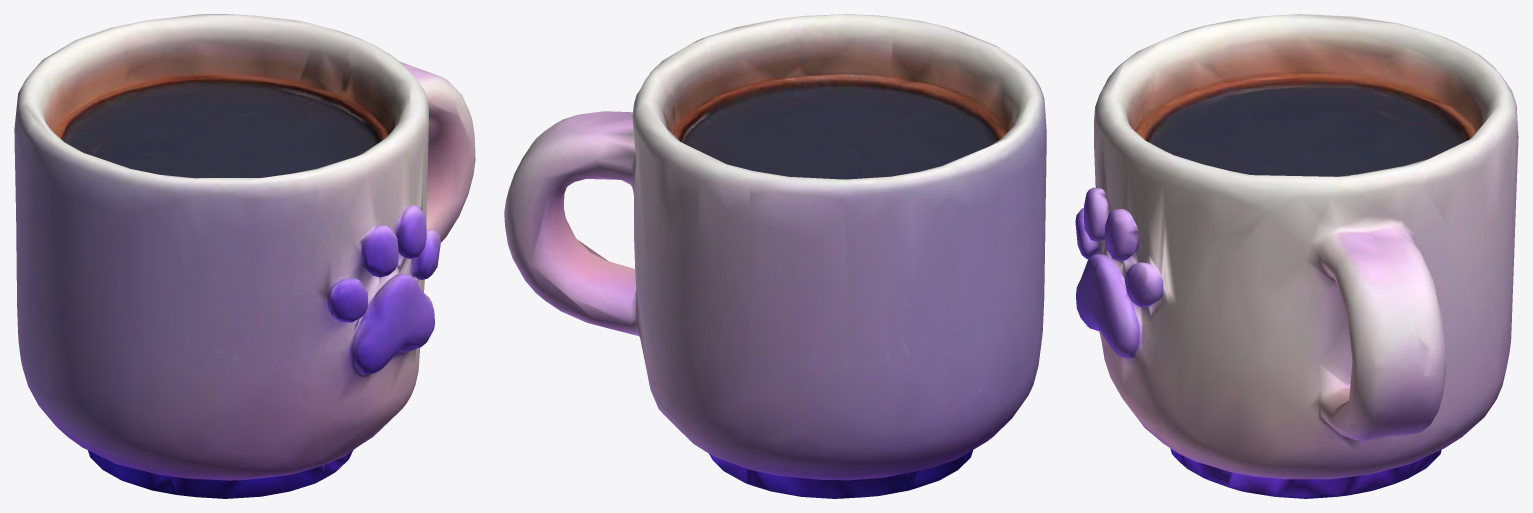
File: junior_coffee_cup.glb
3 views of the same model, side by side, from view 1: azimuth 30°, elevation 25°; view 2: azimuth 150°, elevation 25°; view 3: azimuth 270°, elevation 25° (orthographic).
Visible parts, largest first — view 1: tripo_node_ecd41a10-5d6b-489b-869b-41eb40abeccb; view 2: tripo_node_ecd41a10-5d6b-489b-869b-41eb40abeccb; view 3: tripo_node_ecd41a10-5d6b-489b-869b-41eb40abeccb.
Part boxes in pixels (x1,y1,x2,y2): tripo_node_ecd41a10-5d6b-489b-869b-41eb40abeccb: (14,14,475,498); tripo_node_ecd41a10-5d6b-489b-869b-41eb40abeccb: (504,14,1046,498); tripo_node_ecd41a10-5d6b-489b-869b-41eb40abeccb: (1075,14,1518,498).
Size of the model in its own units: 0.9782 by 0.6927 by 0.8044.
Materials: 1 (1 with a texture image).
